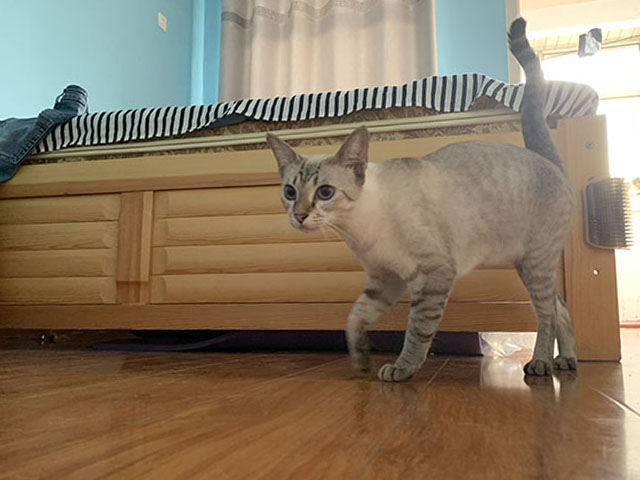bed: (1, 76, 618, 364)
